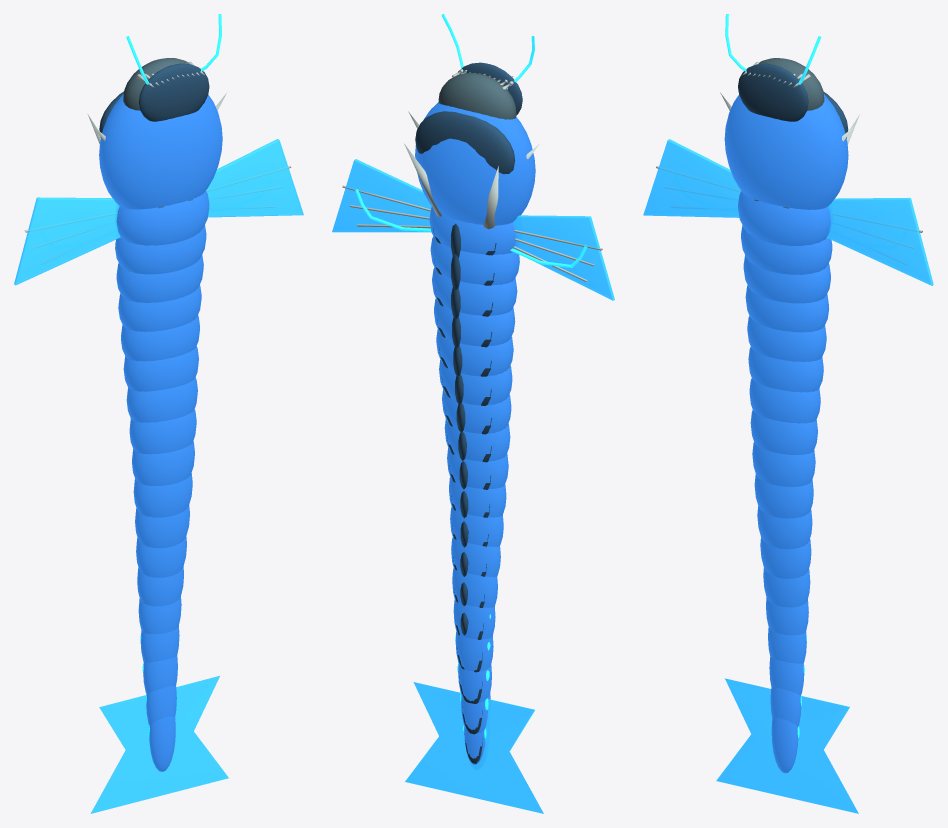
File: abyssal-dragon.glb
The picture shows the model from 3 angles, left to right: view 1: azimuth 30°, elevation 25°; view 2: azimuth 150°, elevation 25°; view 3: azimuth 330°, elevation 25°; orthographic projection. The views are drawn at different scales.
Visible parts, largest first — view 1: dragon-cranium, tail-crown-membrane, swim-fin--1-membrane, swim-fin-1-membrane, muscle-00, lower-jaw, muscle-01, muscle-02, muscle-03, muscle-04, muscle-05, muscle-06 (+12 smaller); view 2: tail-crown-membrane, dragon-cranium, swim-fin--1-membrane, swim-fin-1-membrane, armored-brow, dragon-muzzle, muscle-01, muscle-02, muscle-00, muscle-03, muscle-04, muscle-05 (+13 smaller); view 3: dragon-cranium, tail-crown-membrane, swim-fin-1-membrane, swim-fin--1-membrane, muscle-00, lower-jaw, muscle-01, muscle-02, muscle-03, muscle-04, muscle-05, muscle-06 (+12 smaller).
Boxes of the visible parts, <box> form: dragon-cranium: <box>99,94,222,209</box>; tail-crown-membrane: <box>90,676,228,813</box>; swim-fin--1-membrane: <box>14,197,120,285</box>; swim-fin-1-membrane: <box>206,139,303,217</box>; muscle-00: <box>116,191,209,245</box>; lower-jaw: <box>139,63,209,121</box>; muscle-01: <box>115,225,206,274</box>; muscle-02: <box>116,255,203,302</box>; muscle-03: <box>118,285,201,331</box>; muscle-04: <box>121,315,199,361</box>; muscle-05: <box>123,346,198,391</box>; muscle-06: <box>126,377,197,422</box>; tail-crown-membrane: <box>405,682,543,813</box>; dragon-cranium: <box>415,102,535,225</box>; swim-fin--1-membrane: <box>512,215,614,300</box>; swim-fin-1-membrane: <box>332,159,431,232</box>; armored-brow: <box>415,111,515,174</box>; dragon-muzzle: <box>438,73,516,119</box>; muscle-01: <box>430,236,519,285</box>; muscle-02: <box>432,267,517,315</box>; muscle-00: <box>429,207,518,254</box>; muscle-03: <box>434,298,515,346</box>; muscle-04: <box>436,329,513,376</box>; muscle-05: <box>439,360,512,405</box>; dragon-cranium: <box>724,94,848,209</box>; tail-crown-membrane: <box>716,678,858,813</box>; swim-fin-1-membrane: <box>826,197,933,285</box>; swim-fin--1-membrane: <box>643,139,741,217</box>; muscle-00: <box>738,191,831,245</box>; lower-jaw: <box>738,63,808,121</box>; muscle-01: <box>741,225,832,274</box>; muscle-02: <box>743,255,830,303</box>; muscle-03: <box>745,285,829,332</box>; muscle-04: <box>747,316,826,361</box>; muscle-05: <box>748,347,823,392</box>; muscle-06: <box>749,378,820,423</box>.
Size of the model in its own units: 7.55 by 19.53 by 2.08.
